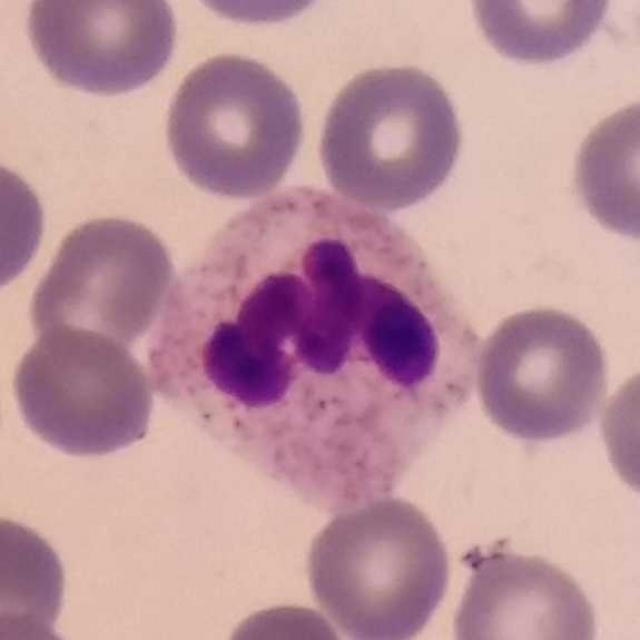Neutrophil: (149, 189, 491, 512)
RBC: (312, 56, 469, 214), (159, 48, 311, 201), (299, 493, 456, 640), (25, 210, 179, 358), (7, 323, 159, 463), (471, 301, 613, 445), (20, 0, 182, 102), (445, 538, 604, 640), (564, 92, 640, 245), (463, 0, 620, 70), (0, 509, 73, 639), (0, 150, 51, 305), (593, 358, 640, 509), (213, 596, 358, 640), (173, 0, 340, 31)
